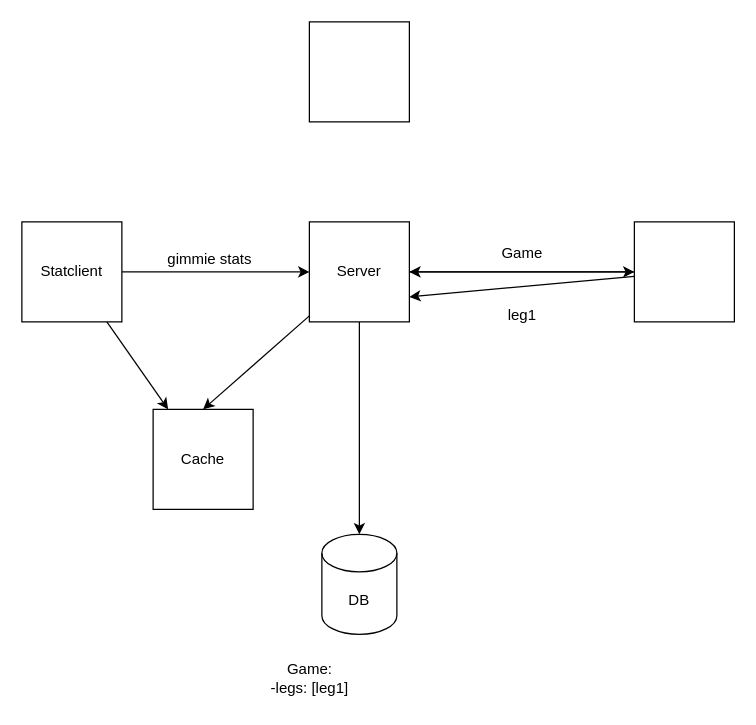
Image size: 756x725. Some labels were removed from this diagram. Here are the shapes that lost their labels. From the top down, the centre of each, then its label:
point (358, 71): AdminClient
point (683, 271): GameClient
